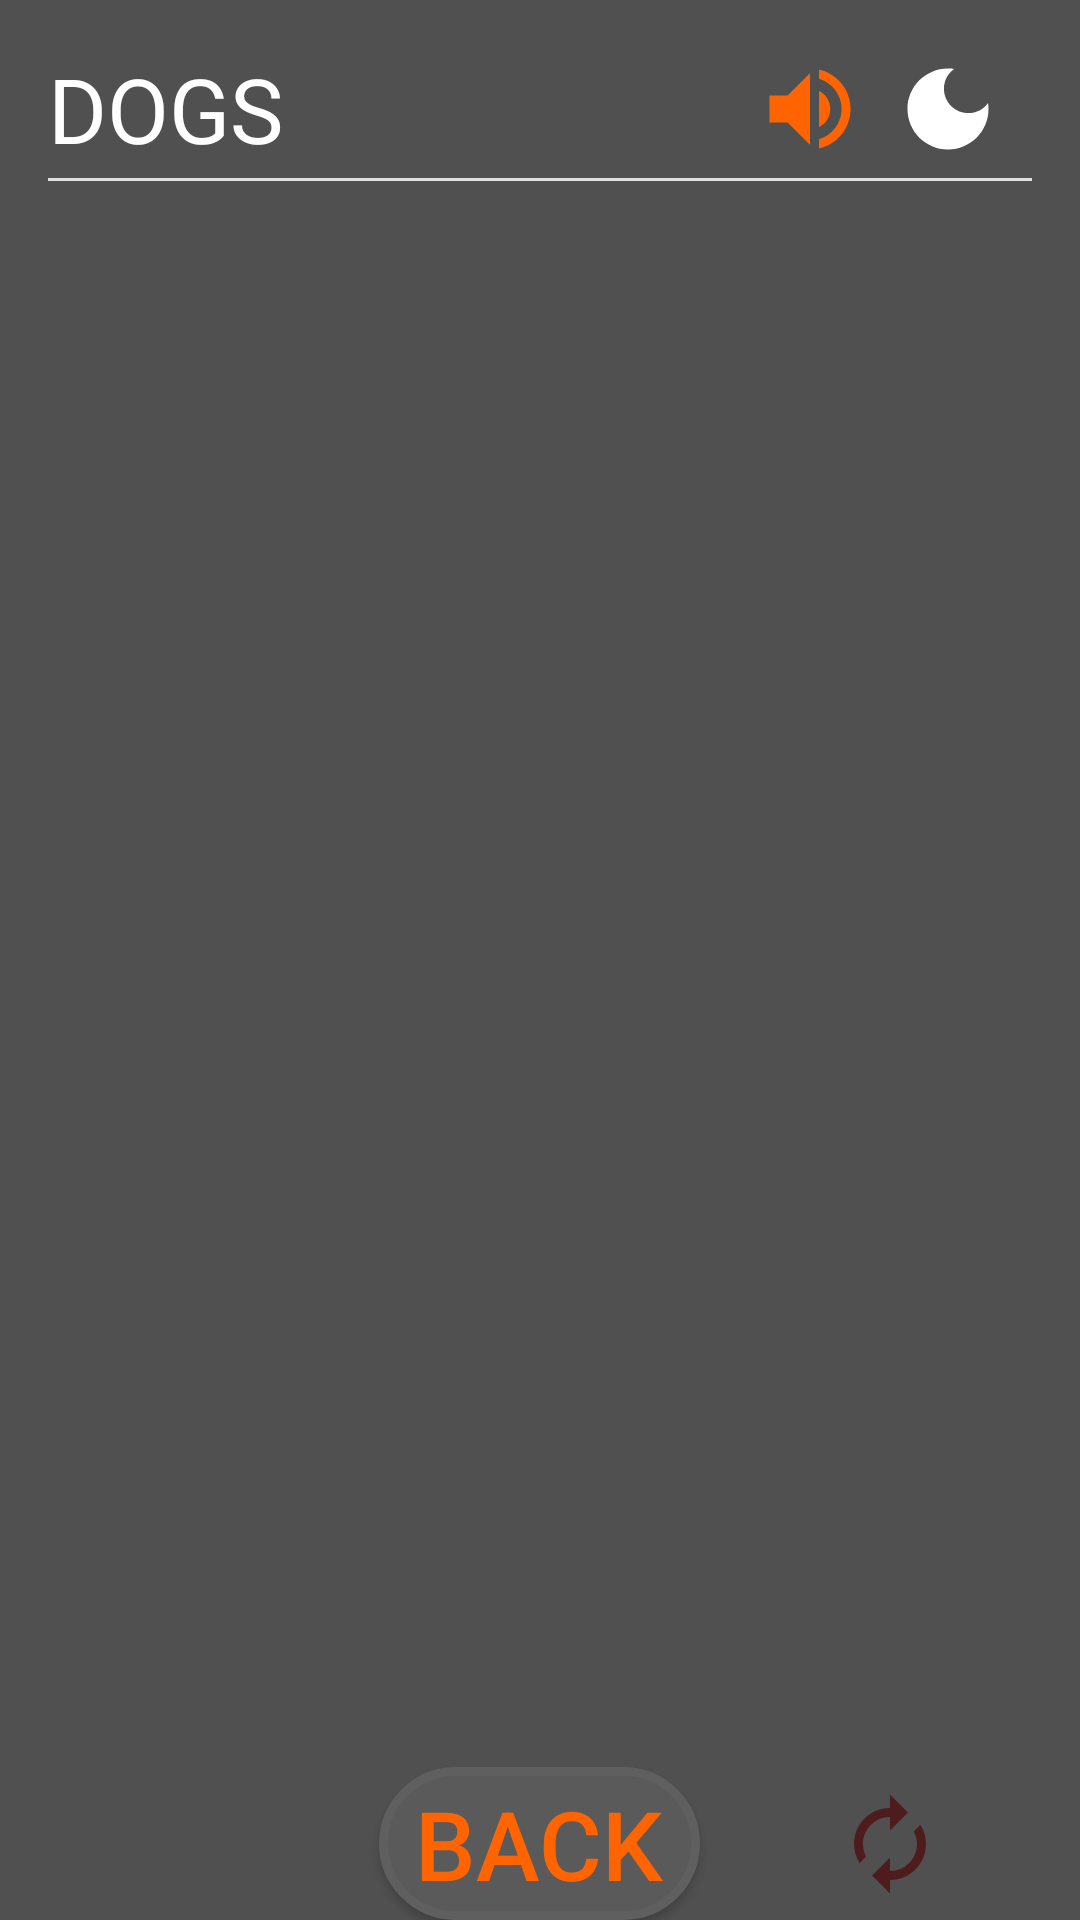

Where to tap for icons on this 1080*1920 app screen, as point (x, y):
autorenew: point (890, 1844)
mode: point (948, 109)
volume up: point (810, 109)
